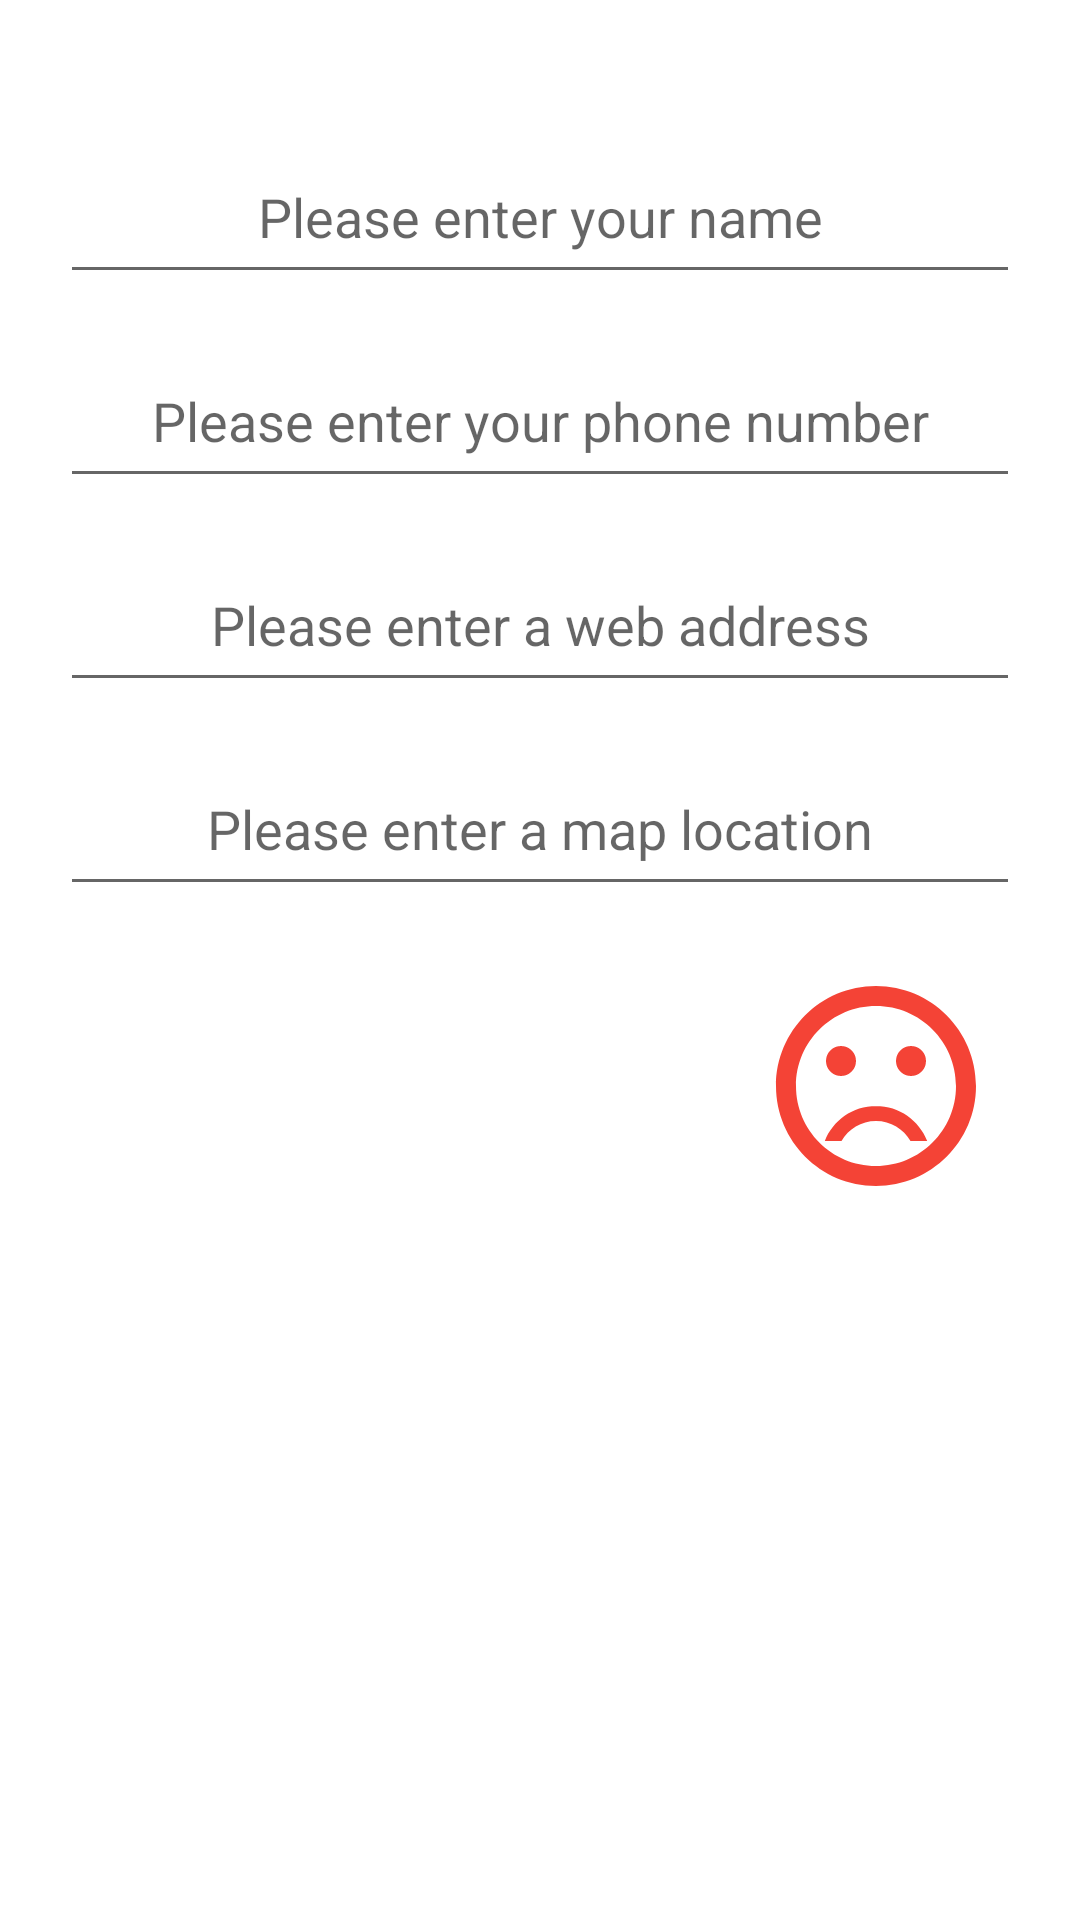

Where to tap for icons on this 1080*1920 app screen, as [x,y]:
sad: [876,1086]
